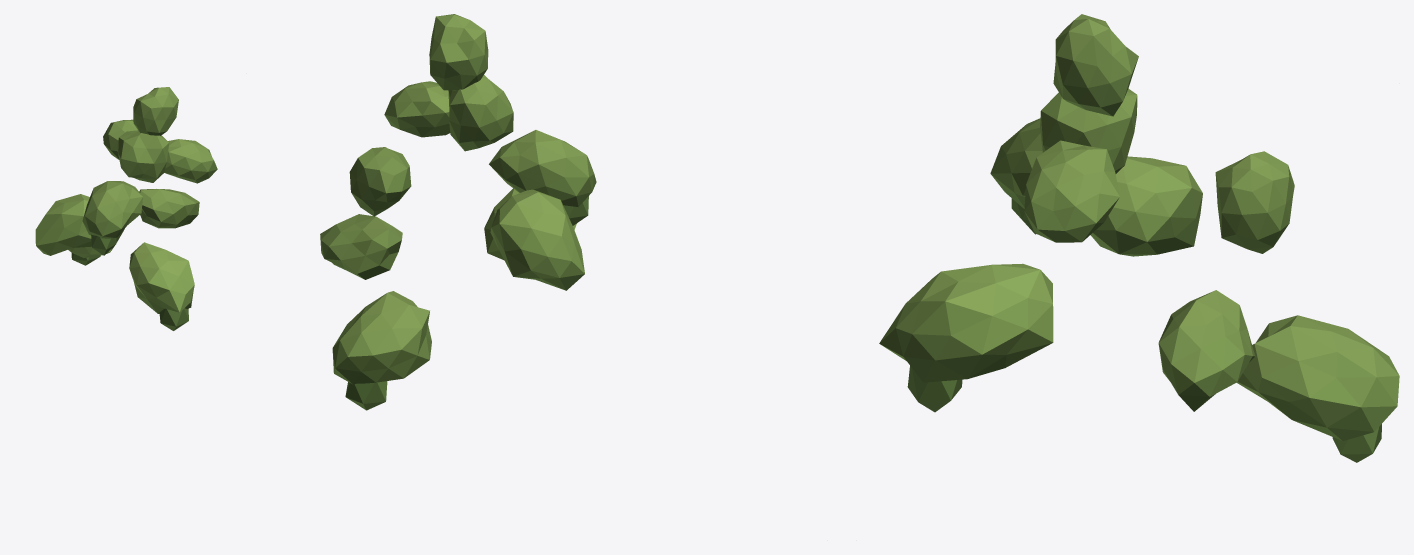
File: BirchLean2_leaf.glb
3 views of the same model, side by side, from view 1: azimuth 30°, elevation 25°; view 2: azimuth 150°, elevation 25°; view 3: azimuth 270°, elevation 25° (orthographic). The views are drawn at different scales.
Visible parts, largest first — view 1: BirchLean2_leaf; view 2: BirchLean2_leaf; view 3: BirchLean2_leaf.
Part boxes in pixels (x1,y1,x2,y2): BirchLean2_leaf: [35, 87, 217, 330]; BirchLean2_leaf: [320, 14, 596, 410]; BirchLean2_leaf: [879, 14, 1399, 462].
Bounding box in the file's own units: 12.59 × 16.08 × 11.02.
